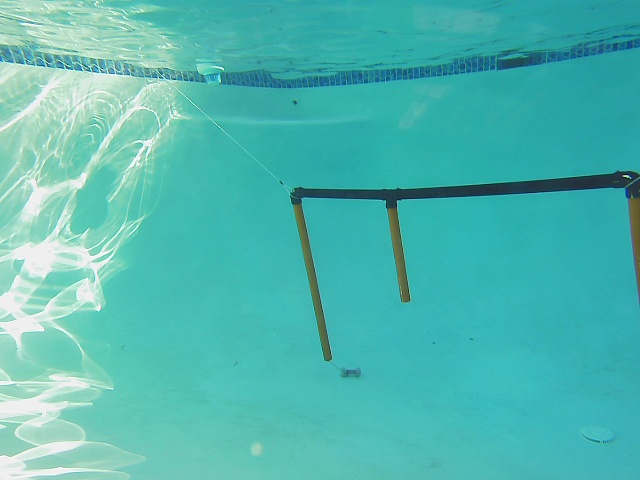Gate: (290, 198, 335, 365), (383, 201, 413, 304), (623, 190, 640, 295)
